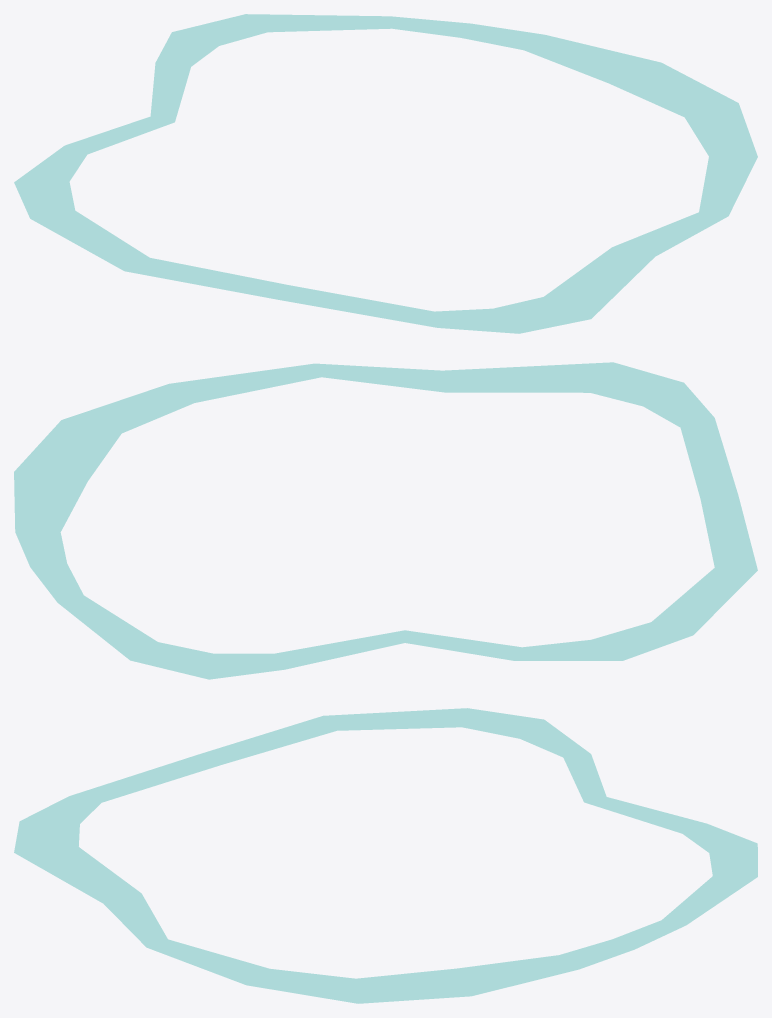
Rendered from wavewall_mesa_01.fbx.
3 views of the same model, one above another, from view 1: azimuth 30°, elevation 25°; view 2: azimuth 150°, elevation 25°; view 3: azimuth 270°, elevation 25° (orthographic). The views are drawn at different scales.
Visible parts, largest first — view 1: obj0.109; view 2: obj0.109; view 3: obj0.109.
Boxes of the visible parts, x1,y1,x2,y2 form: obj0.109: (14, 14, 757, 333); obj0.109: (14, 362, 757, 679); obj0.109: (14, 708, 757, 1003).
Bounding box in the file's own units: 19.86 × 0.000533 × 21.12.
